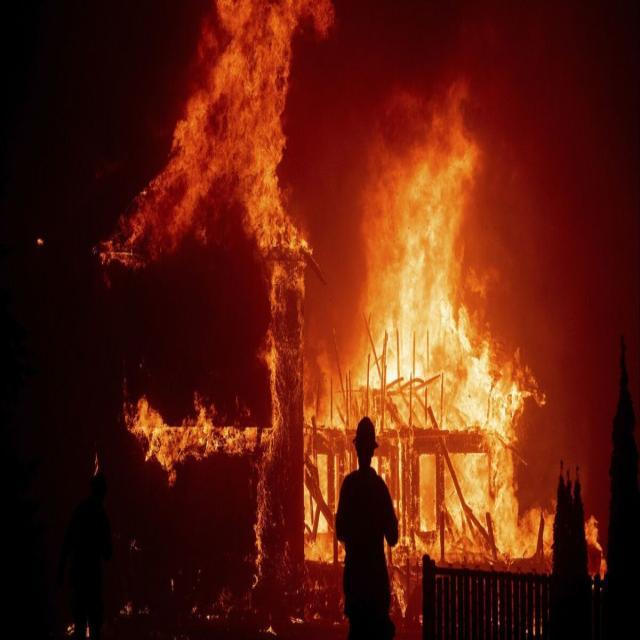Fire: (372, 136, 534, 551), (183, 12, 304, 252), (126, 402, 311, 497)
